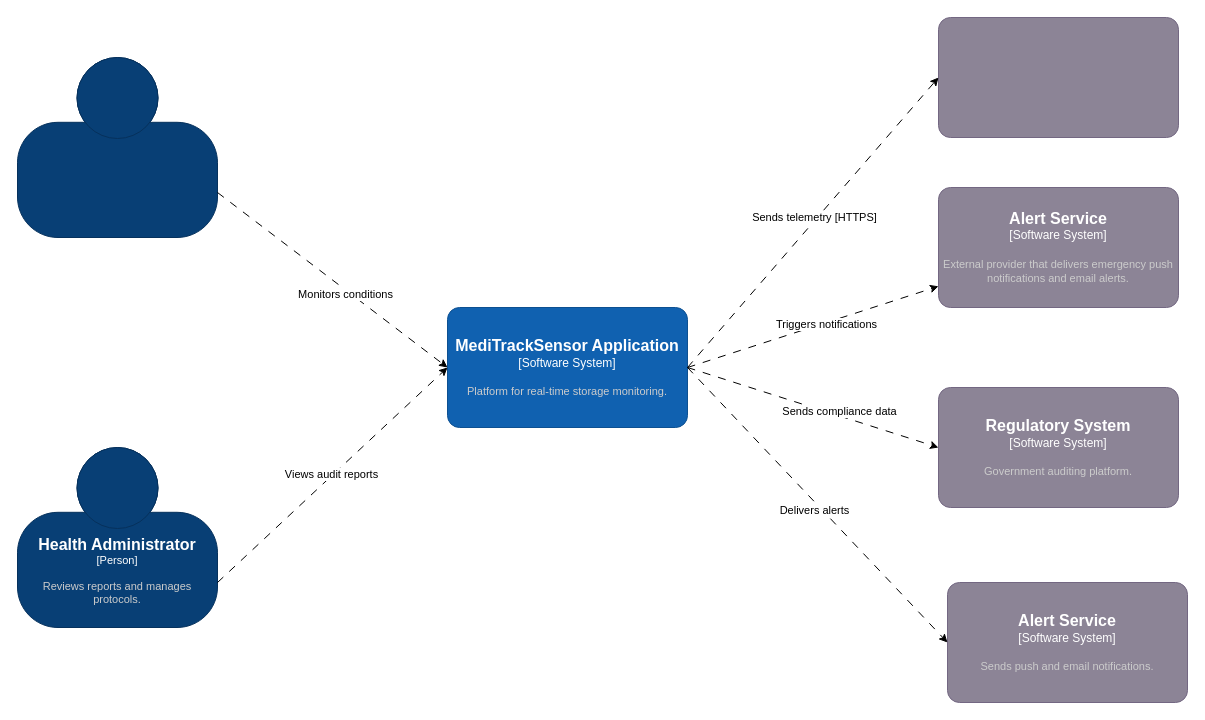
Image size: 1205x720. Some labels were removed from this diagram. The box of each missing label's shape, as (x1, y1, x2, y2) in pixels:
IoT Sensors [Software System] Hardware transmitting telemetry data.: (938, 16, 1178, 138)
Warehouse Operator [Person] Monitors conditions and manages assets.: (16, 56, 218, 238)
